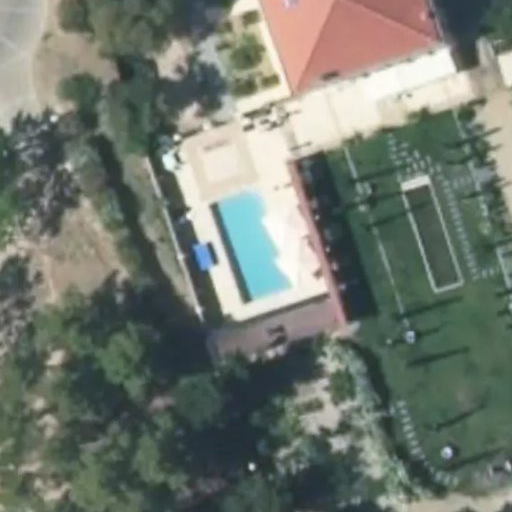pool: (208, 197, 302, 286)
